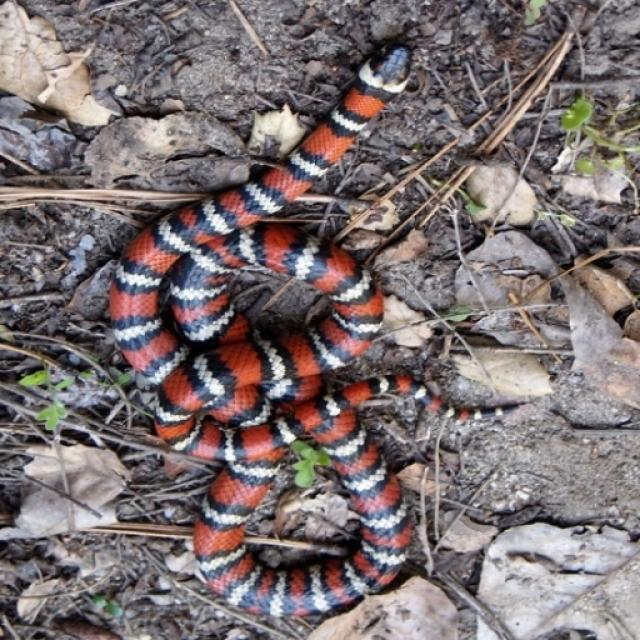snake: (102, 36, 486, 632)
